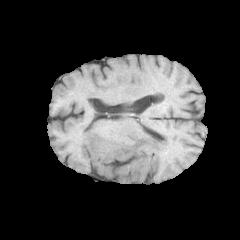glioma: (79, 128, 177, 177)
